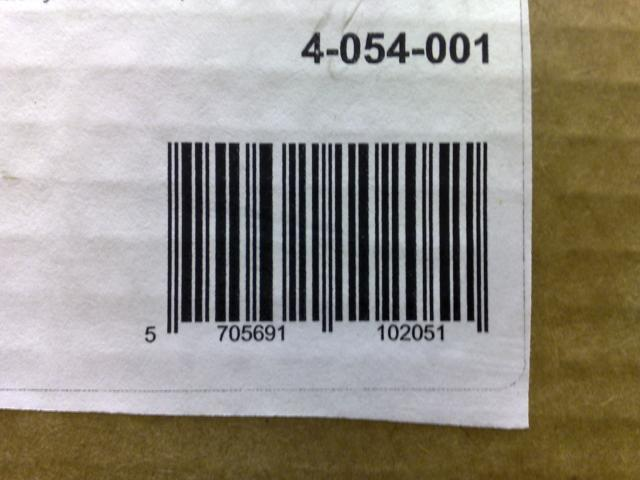Barcode: (128, 125, 509, 366)
